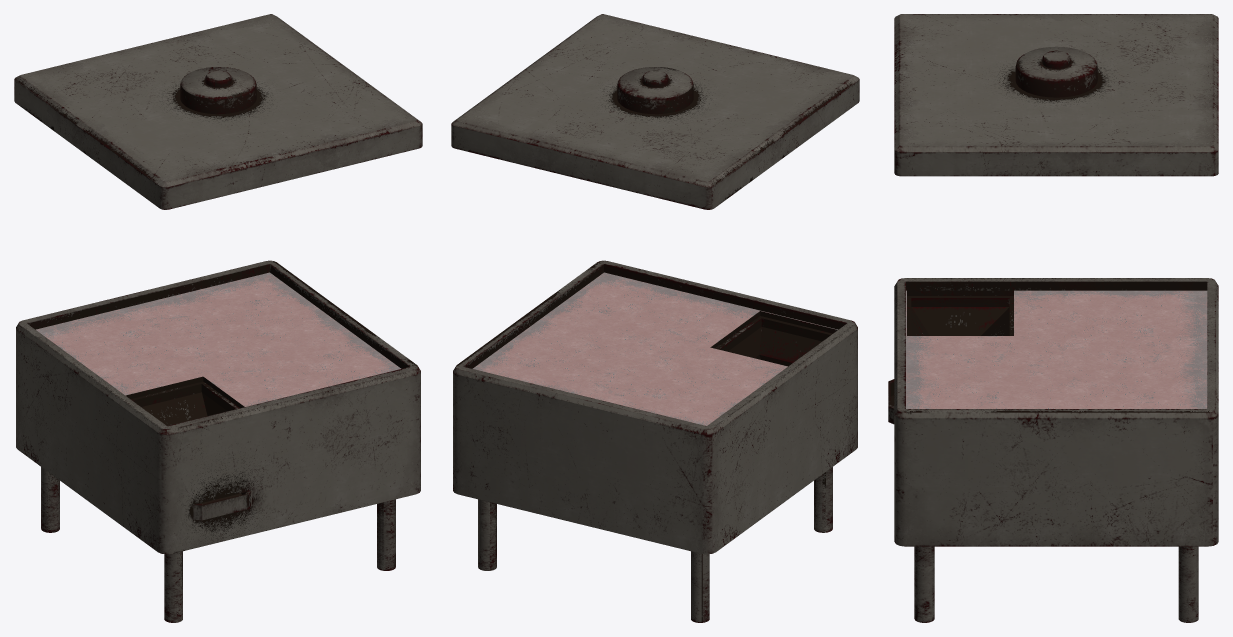
The model's file is ufo_base.fbx.
3 views of the same model, side by side, from view 1: azimuth 30°, elevation 25°; view 2: azimuth 150°, elevation 25°; view 3: azimuth 270°, elevation 25° (orthographic). The views are drawn at different scales.
Visible parts, largest first — view 1: base.018, base.002; view 2: base.018; view 3: base.018.
Boxes of the visible parts, bbox=[...] form: base.018: bbox=[14, 14, 422, 622]; base.002: bbox=[193, 491, 251, 520]; base.018: bbox=[451, 14, 859, 622]; base.018: bbox=[894, 14, 1218, 622].
Size of the model in its own units: 590 by 1018 by 601.
